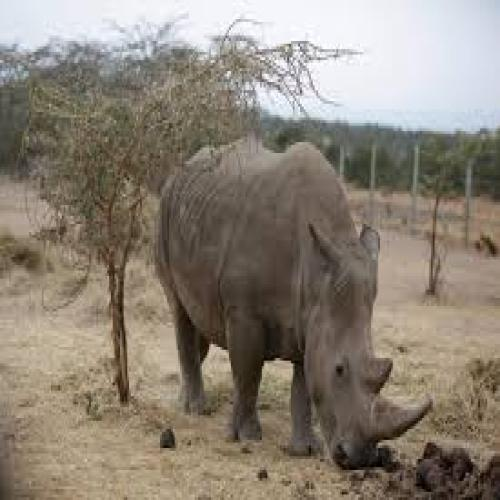rhino-endangered: (154, 137, 434, 472)
